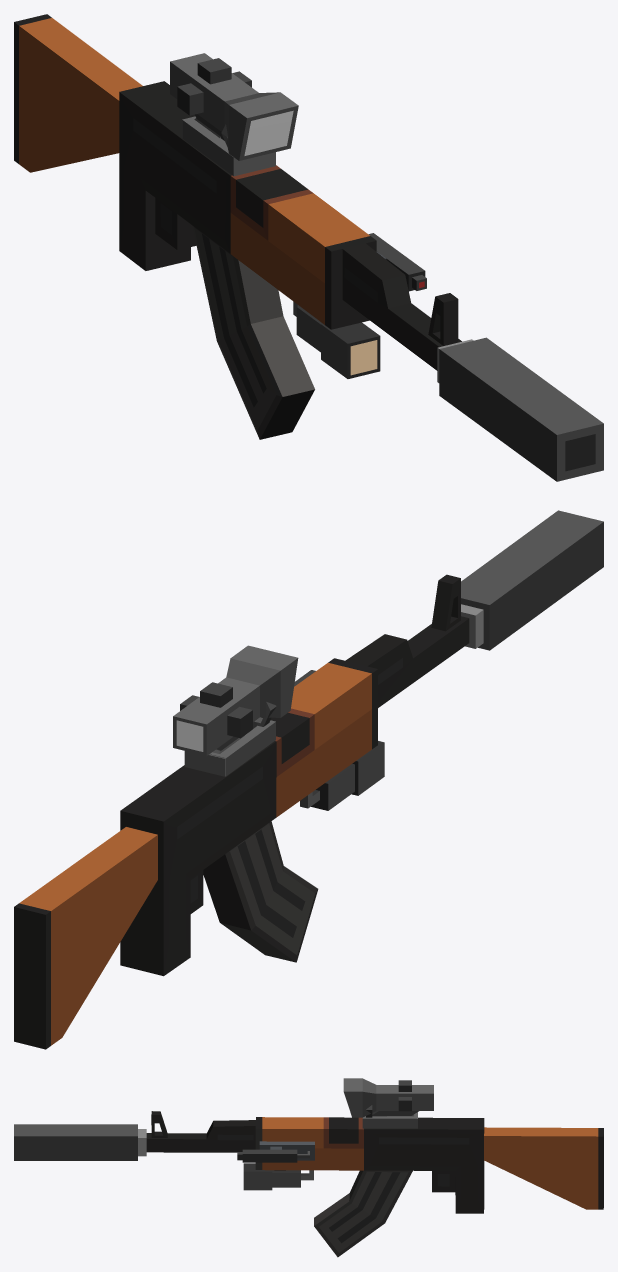
File: SA_Wep_AssaultRifle01_mod.fbx
3 views of the same model, one above another, from view 1: azimuth 30°, elevation 25°; view 2: azimuth 150°, elevation 25°; view 3: azimuth 270°, elevation 25° (orthographic). The views are drawn at different scales.
Parts seen in each view (by area): view 1: SA_Wep_AssaultRifle01, SA_Wep_AssaultRifle01_Silencer, SA_Wep_Magazine002, SA_Wep_AssaultRifle01_Acog, SA_Wep_AssaultRifle01_Flashlight, SA_Wep_AssaultRifle01_Reddot, SA_Wep_AssaultRifle01_Laser; view 2: SA_Wep_AssaultRifle01, SA_Wep_AssaultRifle01_Silencer, SA_Wep_Magazine002, SA_Wep_AssaultRifle01_Acog, SA_Wep_AssaultRifle01_Flashlight, SA_Wep_AssaultRifle01_Reddot; view 3: SA_Wep_AssaultRifle01, SA_Wep_AssaultRifle01_Silencer, SA_Wep_Magazine002, SA_Wep_AssaultRifle01_Acog, SA_Wep_AssaultRifle01_Laser, SA_Wep_AssaultRifle01_Flashlight.
Part boxes in pixels (box(x1,y1,x2,y2)): SA_Wep_AssaultRifle01: box(14, 14, 461, 370); SA_Wep_AssaultRifle01_Silencer: box(437, 337, 603, 481); SA_Wep_Magazine002: box(192, 225, 314, 439); SA_Wep_AssaultRifle01_Acog: box(170, 53, 298, 175); SA_Wep_AssaultRifle01_Flashlight: box(293, 301, 380, 378); SA_Wep_AssaultRifle01_Reddot: box(182, 116, 274, 176); SA_Wep_AssaultRifle01_Laser: box(368, 233, 426, 291); SA_Wep_AssaultRifle01: box(14, 574, 469, 1049); SA_Wep_AssaultRifle01_Silencer: box(461, 510, 603, 650); SA_Wep_Magazine002: box(203, 821, 318, 962); SA_Wep_AssaultRifle01_Acog: box(173, 645, 298, 776); SA_Wep_AssaultRifle01_Flashlight: box(300, 741, 384, 810); SA_Wep_AssaultRifle01_Reddot: box(209, 701, 276, 776); SA_Wep_AssaultRifle01: box(146, 1111, 603, 1213); SA_Wep_AssaultRifle01_Silencer: box(14, 1124, 146, 1160); SA_Wep_Magazine002: box(314, 1170, 412, 1257); SA_Wep_AssaultRifle01_Acog: box(343, 1078, 433, 1128); SA_Wep_AssaultRifle01_Laser: box(237, 1141, 314, 1162); SA_Wep_AssaultRifle01_Flashlight: box(243, 1163, 313, 1190).
Bounding box in the file's own units: 0.2219 × 0.7827 × 2.45.
1 material, 1 textured.
